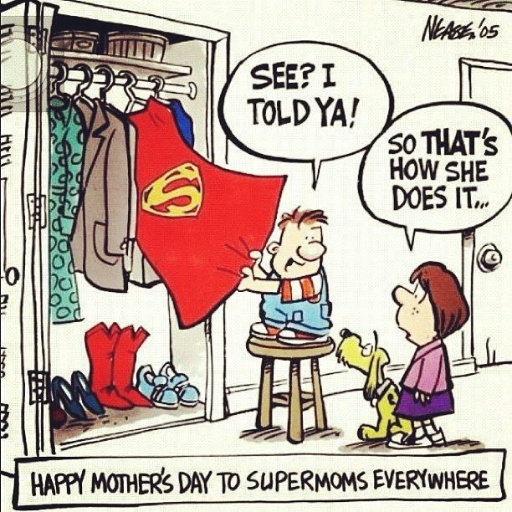hand: (232, 262, 251, 289), (246, 245, 262, 273), (411, 389, 430, 407)
